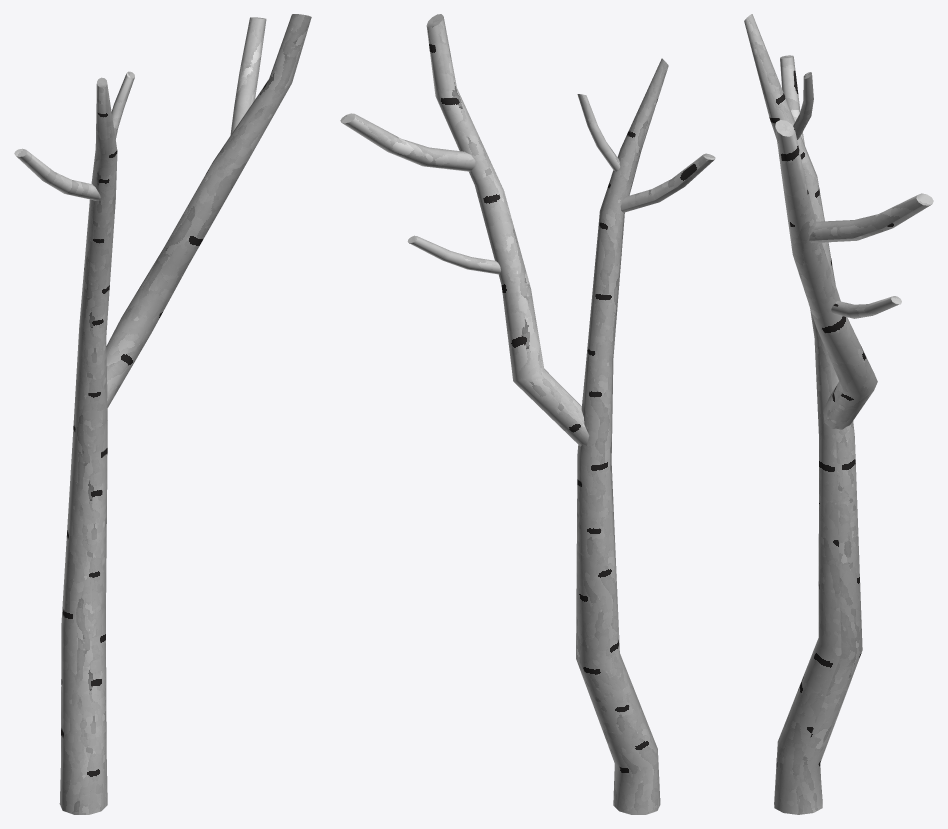
File: tree_deadbirch_2.glb
3 renders of one model, left to right at view 1: azimuth 30°, elevation 25°; view 2: azimuth 150°, elevation 25°; view 3: azimuth 270°, elevation 25°, orthographic. The views are drawn at different scales.
Parts seen in each view (by area): view 1: DeadBirch_2; view 2: DeadBirch_2; view 3: DeadBirch_2.
Part boxes in pixels (x1,y1,x2,y2): DeadBirch_2: (14,14,311,814); DeadBirch_2: (340,14,715,814); DeadBirch_2: (744,14,933,814).
Bounding box in the file's own units: 2.65 × 6 × 1.3.
Materials: 1 (1 with a texture image).
